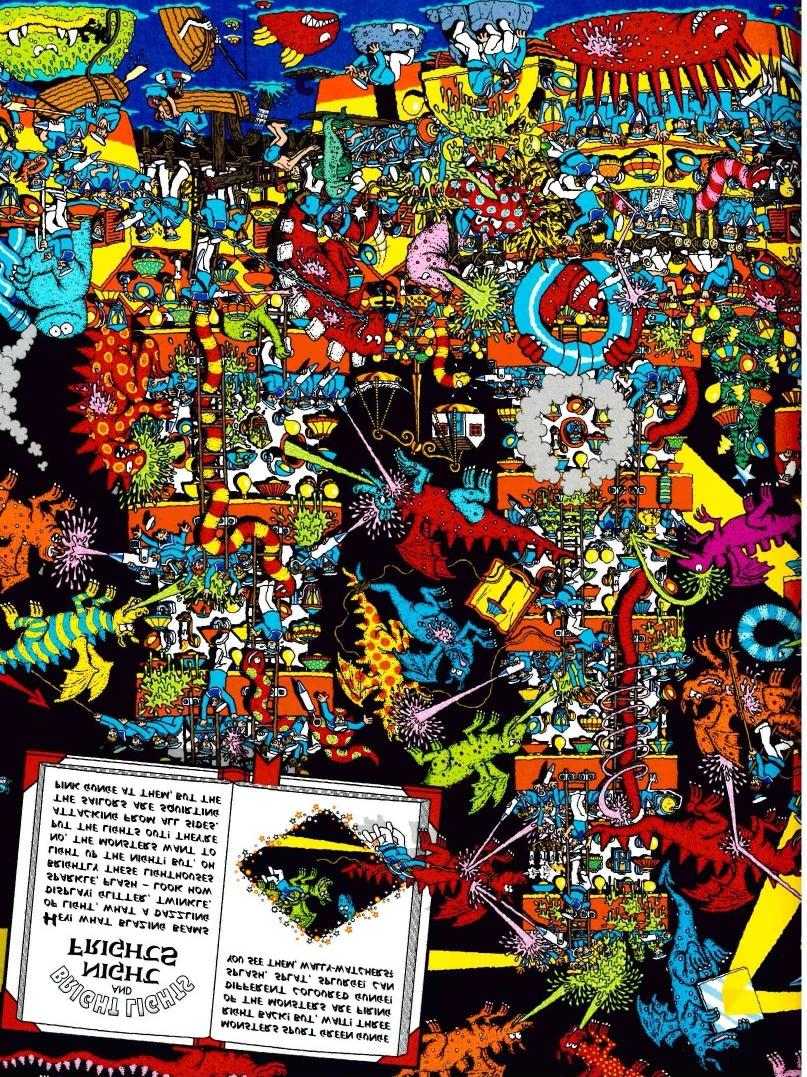waldos: (515, 384, 528, 405)
